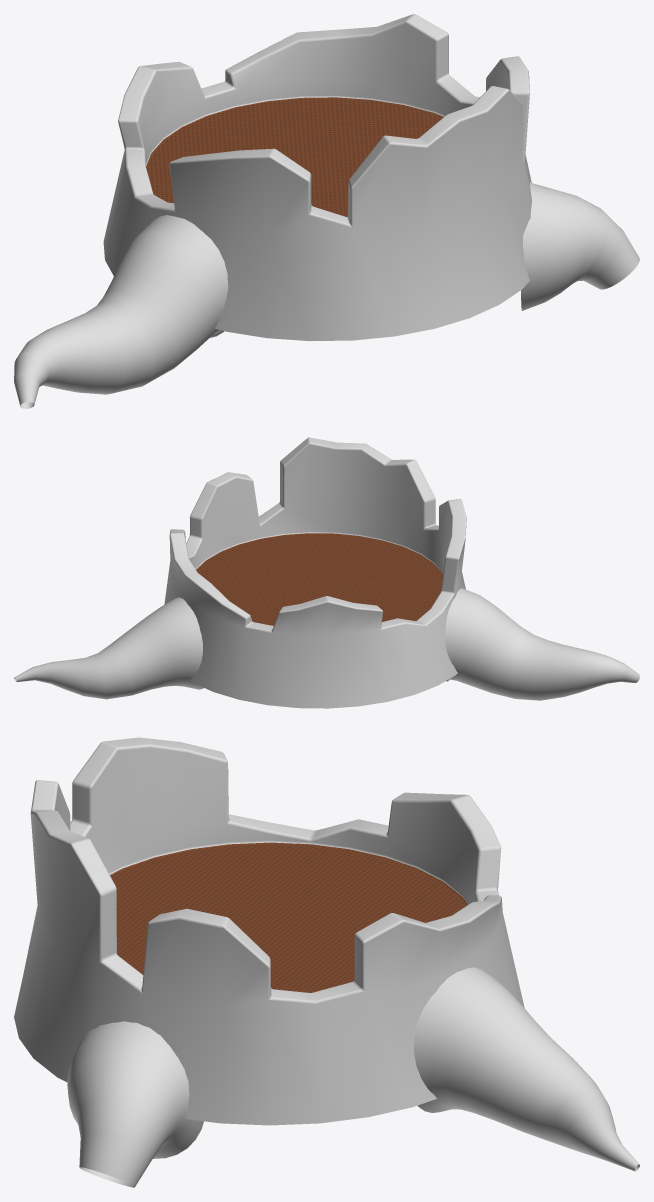
The model's file is Stump_LOD.fbx.
The picture shows the model from 3 angles, top to bottom: view 1: azimuth 30°, elevation 25°; view 2: azimuth 150°, elevation 25°; view 3: azimuth 270°, elevation 25°; orthographic projection. The views are drawn at different scales.
Visible parts, largest first — view 1: StumpFull_LOD00; view 2: StumpFull_LOD00; view 3: StumpFull_LOD00.
Boxes of the visible parts, x1,y1,x2,y2 form: StumpFull_LOD00: (14, 14, 639, 408); StumpFull_LOD00: (14, 437, 639, 708); StumpFull_LOD00: (14, 737, 639, 1187).
Size of what is drawn, in the model's own units: 16741 by 6200 by 12209.
